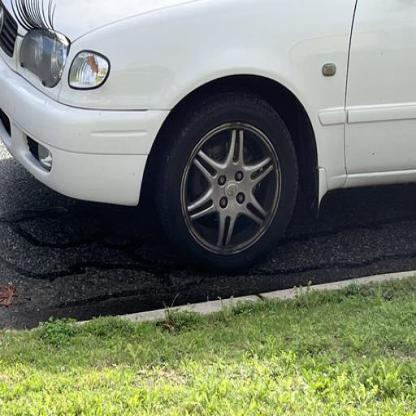Tire: (156, 88, 298, 272)
